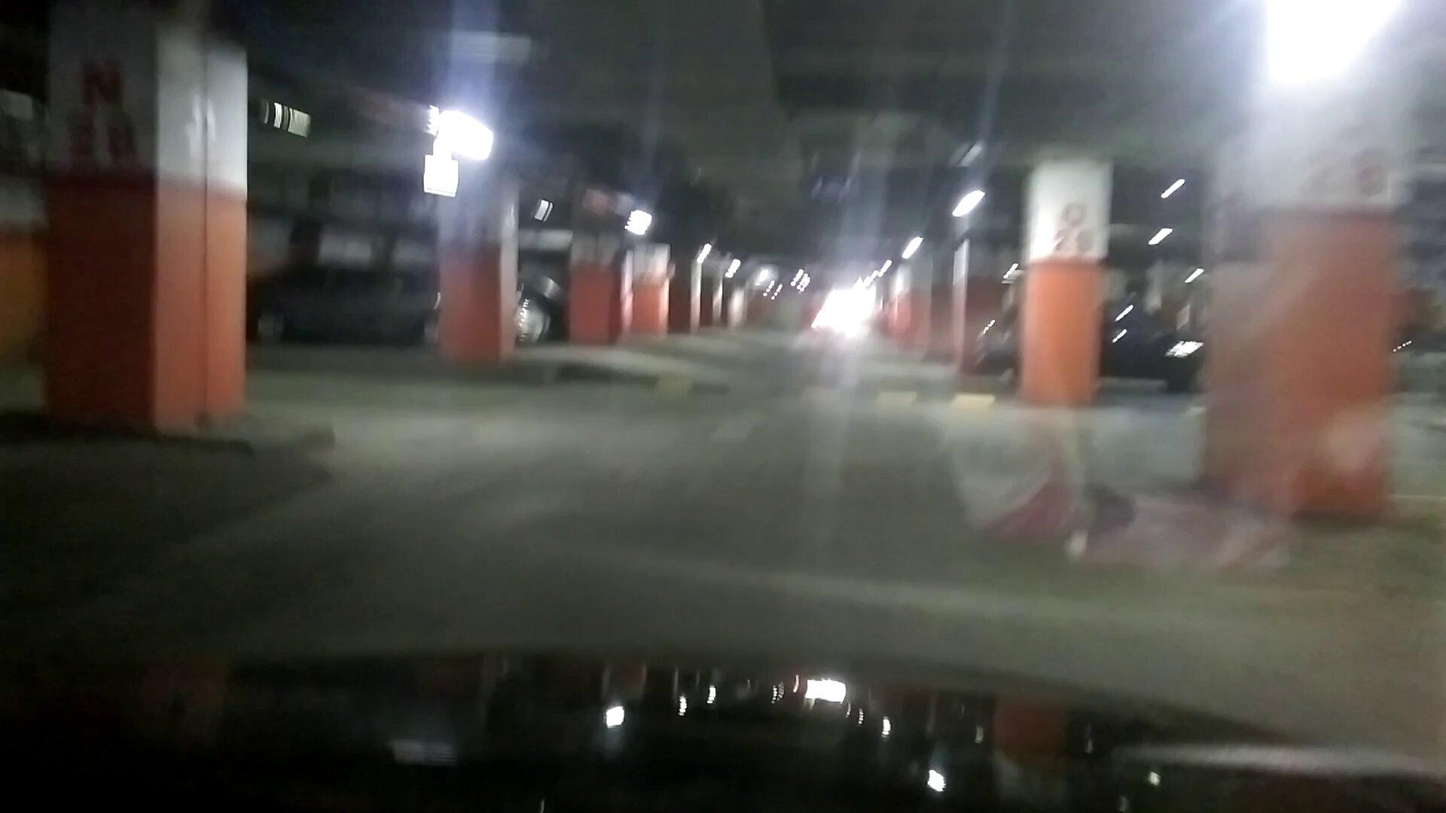Bump: (525, 368, 1012, 414)
